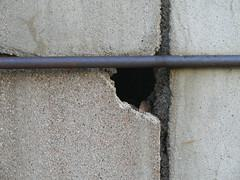Spalling: (108, 66, 161, 122)
